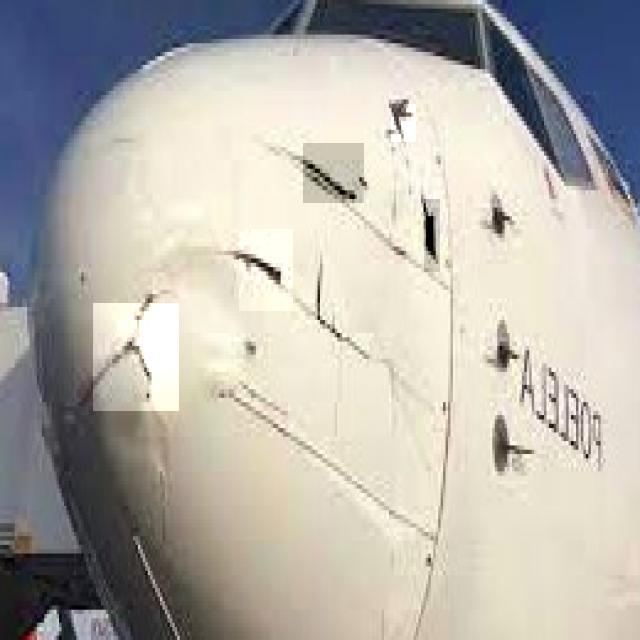crack: (95, 304, 181, 412), (240, 231, 294, 313), (304, 144, 365, 204), (425, 200, 442, 273), (392, 105, 417, 144)
